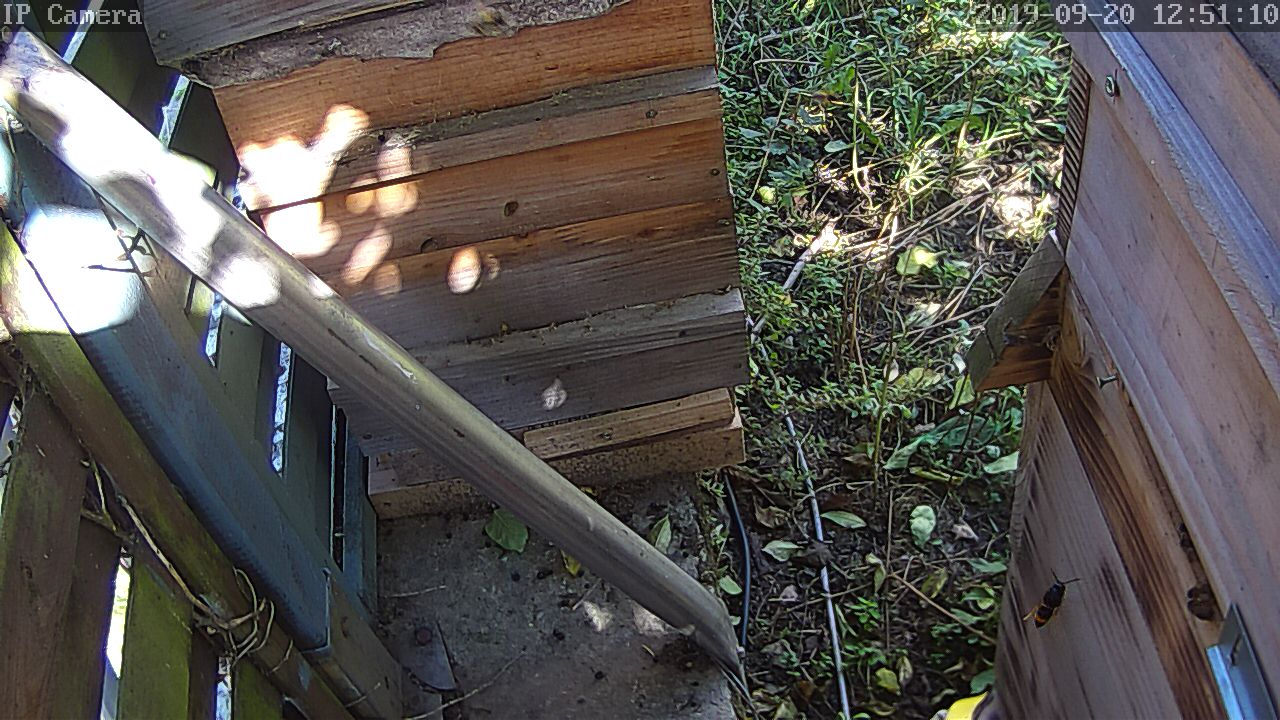bee: (1181, 578, 1220, 622)
hornet: (1027, 572, 1075, 638)
